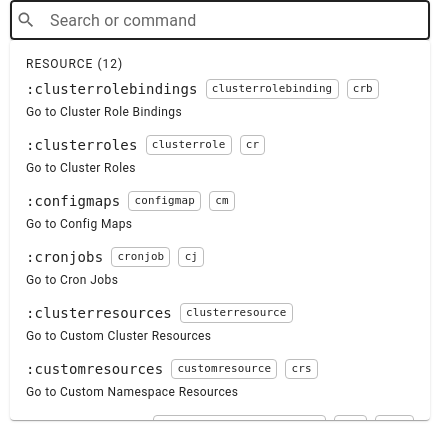
Test: inline search, map options and namespace preference › starts both partitions in one debounce and orders local first when local resolves first
Type "api-7f" into the dropdown with placeholder "Search or command" at x=232, y=20, box [42,6,421,34]
Wait 350 ms
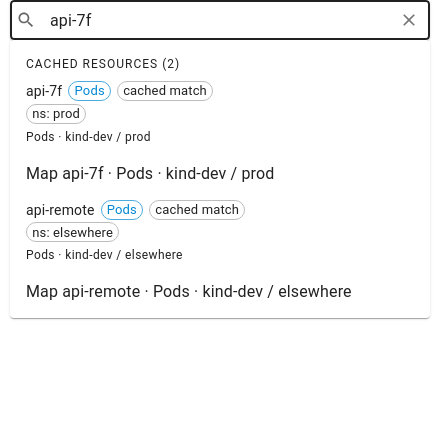
expect the text "api-7f" is shown: met, box [26,81,62,101]
expect the option "api-7f Pods cached match ns: prod Pods · kind-dev / prod" is shown: met, box [26,81,213,144]
expect the option that starts with "api-remote" is shown: met, box [26,200,245,262]
